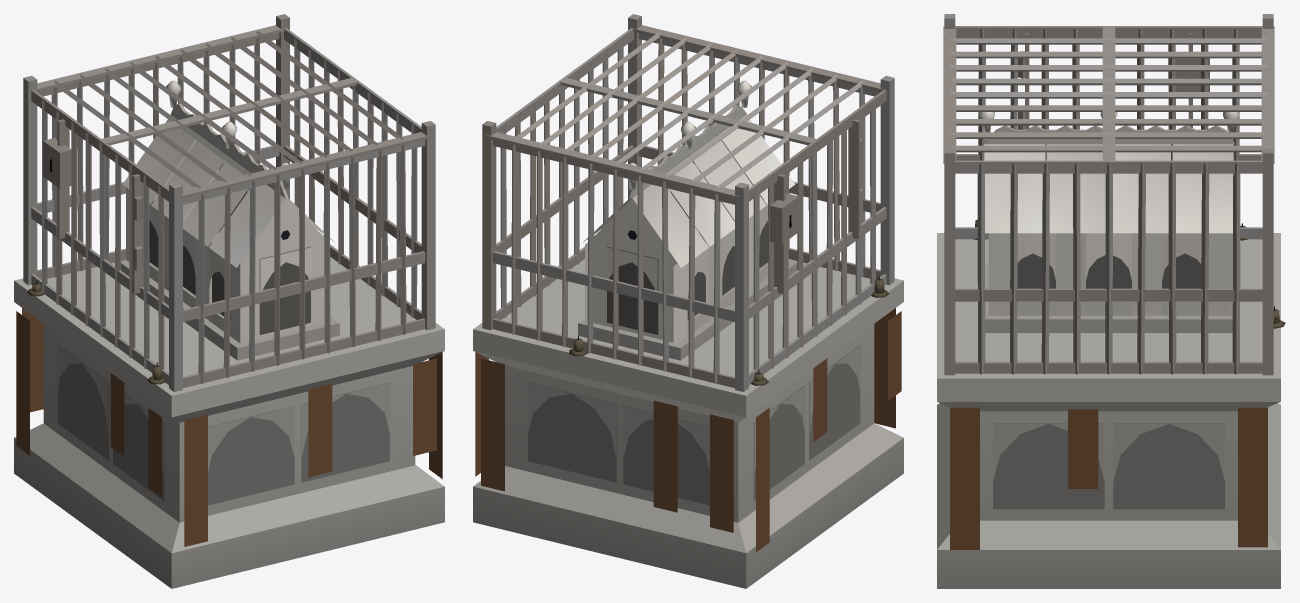
Rendered from prop_reliquary.glb.
3 renders of one model, left to right at view 1: azimuth 30°, elevation 25°; view 2: azimuth 150°, elevation 25°; view 3: azimuth 270°, elevation 25°, orthographic. The views are drawn at different scales.
Parts seen in each view (by area): view 1: Reliquary, ReliquarySoft; view 2: Reliquary, ReliquarySoft; view 3: Reliquary, ReliquarySoft.
Part boxes in pixels (<box>): Reliquary: <box>14,14,444,588</box>; ReliquarySoft: <box>26,80,289,384</box>; Reliquary: <box>473,14,903,588</box>; ReliquarySoft: <box>569,80,888,385</box>; Reliquary: <box>937,14,1280,588</box>; ReliquarySoft: <box>974,112,1285,328</box>.
Size of the model in its own units: 0.822 by 1.11 by 0.822.
